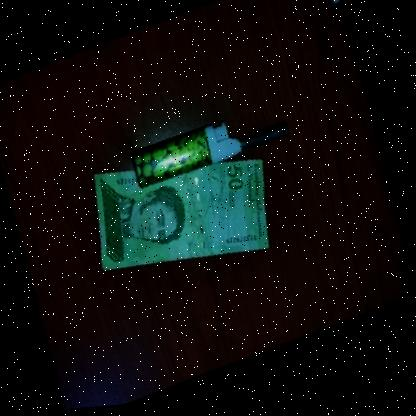fifty-front-vef: (90, 143, 276, 285)
